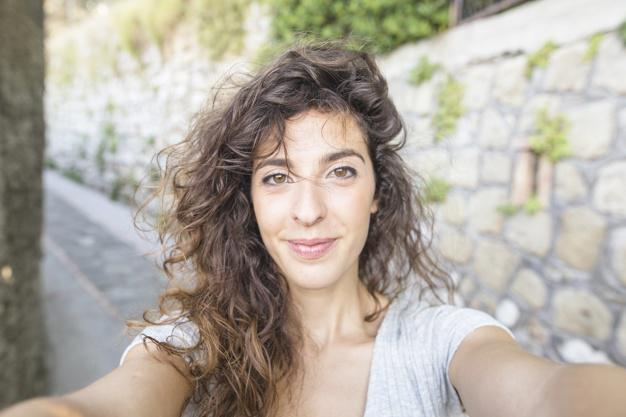face: (247, 110, 371, 291)
